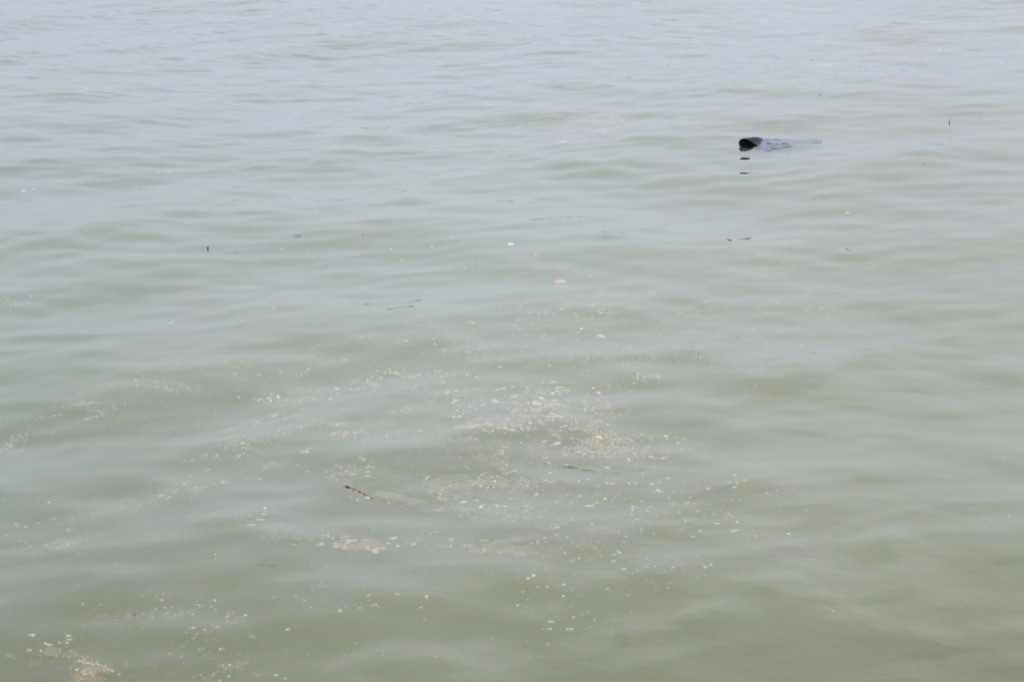organic: (554, 454, 627, 487), (336, 475, 374, 507), (716, 228, 763, 250), (940, 111, 960, 137)
plastic: (723, 117, 838, 177), (281, 222, 325, 259), (493, 229, 534, 262), (193, 232, 230, 264), (546, 266, 578, 297)
